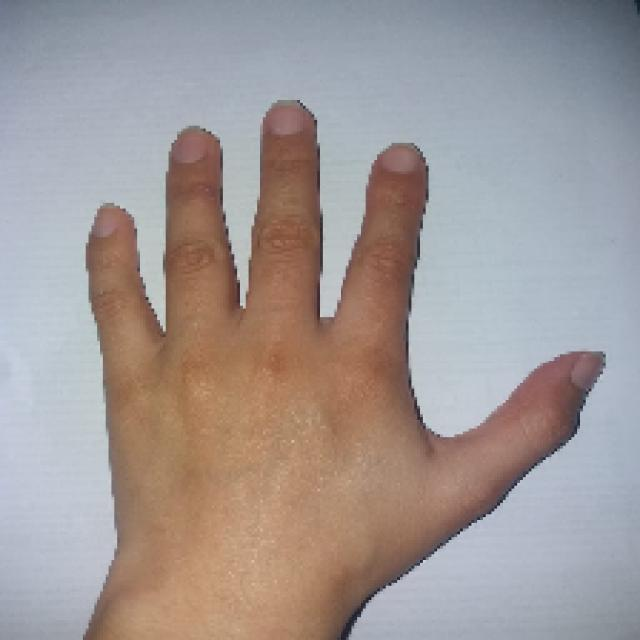Nail: (378, 144, 422, 174), (171, 129, 208, 164), (269, 102, 307, 136), (571, 352, 604, 391), (91, 204, 124, 238)
